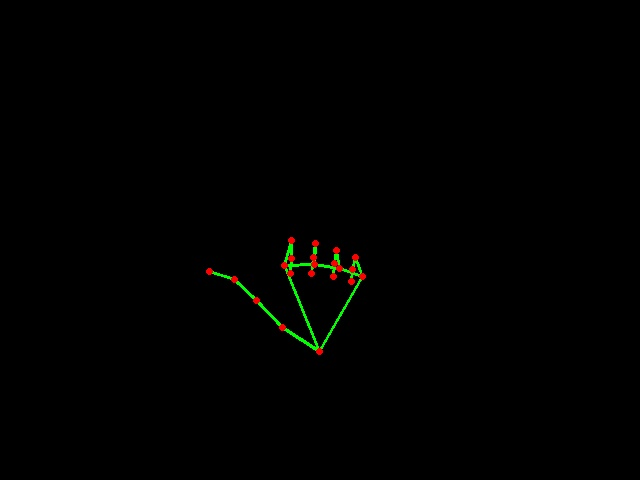right: (193, 228, 370, 361)
